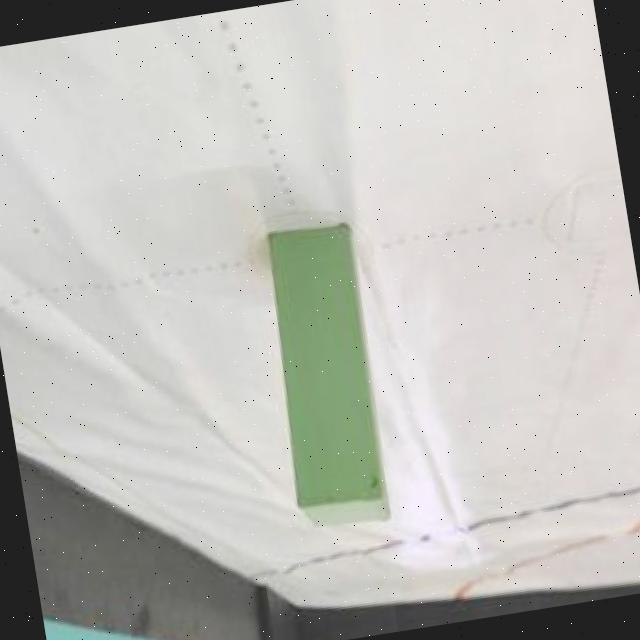greenbox: (250, 222, 401, 542)
